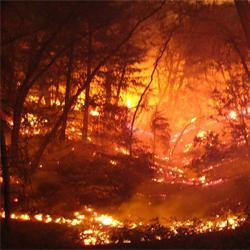fire: (94, 213, 129, 233), (82, 227, 97, 247), (193, 129, 211, 141)
